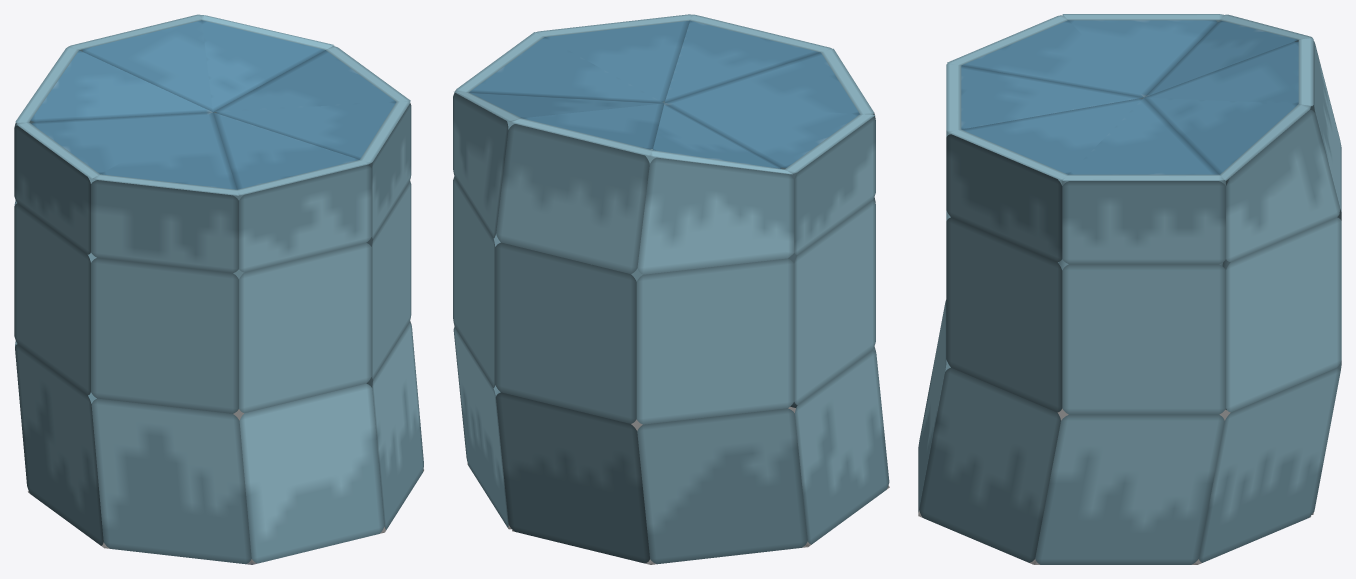
File: Kaleng.fbx
3 views of the same model, side by side, from view 1: azimuth 30°, elevation 25°; view 2: azimuth 150°, elevation 25°; view 3: azimuth 270°, elevation 25° (orthographic). The views are drawn at different scales.
Visible parts, largest first — view 1: cylinder; view 2: cylinder; view 3: cylinder.
Part boxes in pixels (x1,y1,x2,y2): cylinder: (14, 14, 423, 564); cylinder: (453, 14, 889, 564); cylinder: (918, 14, 1341, 564).
Bounding box in the file's own units: 19.25 × 22 × 20.62.
1 material, 1 textured.
